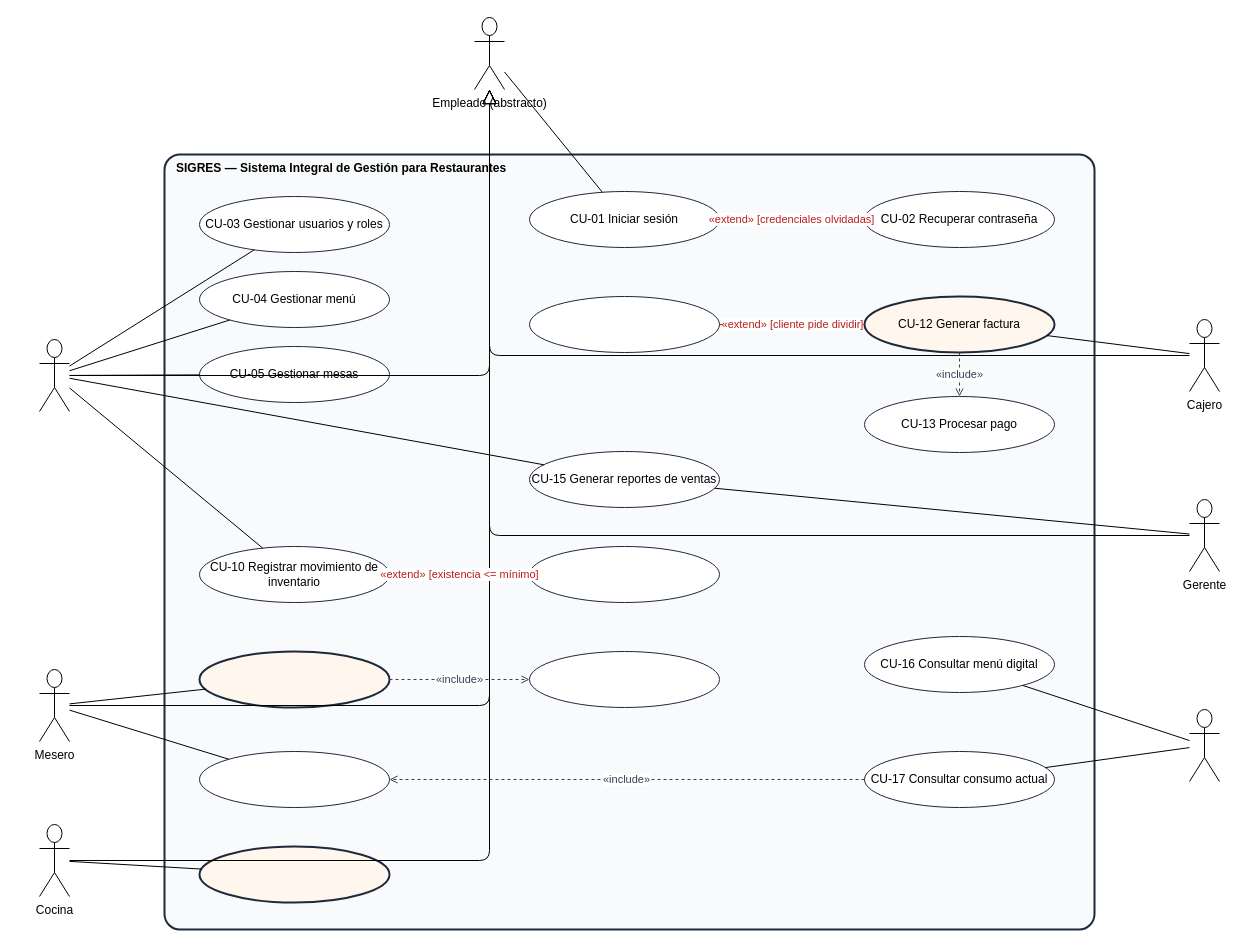
The diagram is 1255 pixels wide and 948 high, and some of its shapes have lost their labels. Here are the shapes that lost their labels. From the top down, the centre of each, then its label:
At [624,324]: "CU-14 Dividir cuenta".
At [54,375]: "Administrador".
At [624,574]: "CU-11 Emitir alerta de existencias mínimas".
At [294,679]: "CU-06 Registrar pedido".
At [624,679]: "CU-07 Enviar comanda a cocina".
At [1204,745]: "Cliente (QR)".
At [294,779]: "CU-09 Consultar estado del pedido".
At [294,874]: "CU-08 Actualizar estado del pedido".
